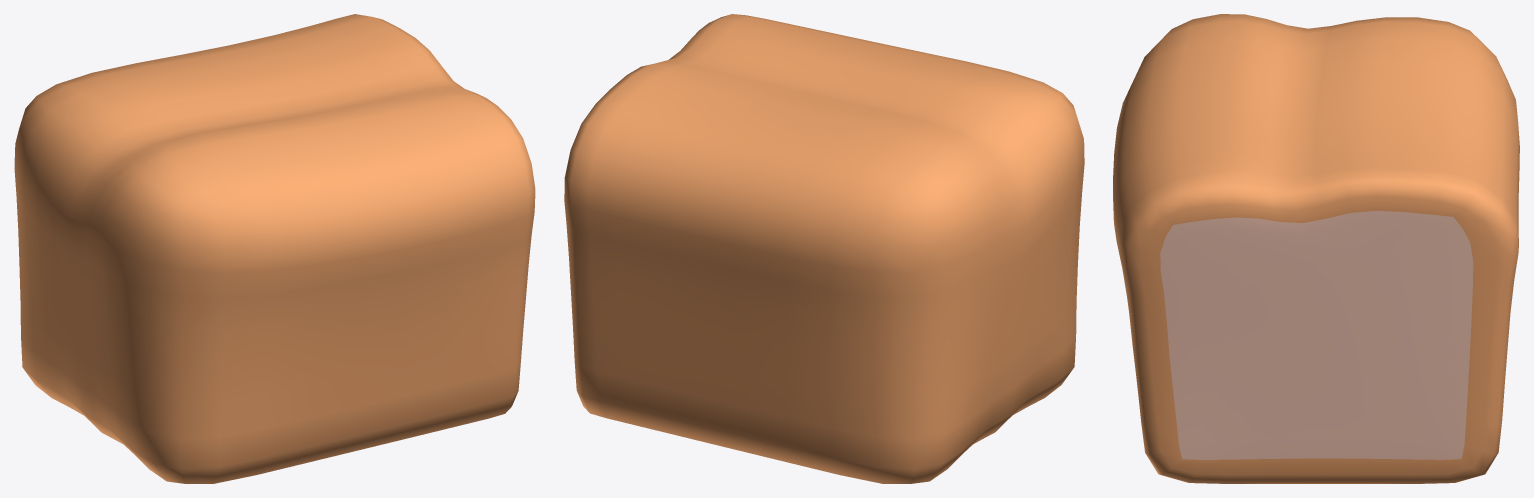
The model's file is Bread_02.fbx.
The picture shows the model from 3 angles, left to right: view 1: azimuth 30°, elevation 25°; view 2: azimuth 150°, elevation 25°; view 3: azimuth 270°, elevation 25°; orthographic projection.
Parts seen in each view (by area): view 1: Bread_02_LOD0; view 2: Bread_02_LOD0; view 3: Bread_02_LOD0.
Boxes of the visible parts, x1,y1,x2,y2 form: Bread_02_LOD0: (14, 14, 535, 483); Bread_02_LOD0: (564, 14, 1084, 483); Bread_02_LOD0: (1113, 14, 1519, 483).
Size of what is drawn, in the model's own units: 564 by 447 by 516.
